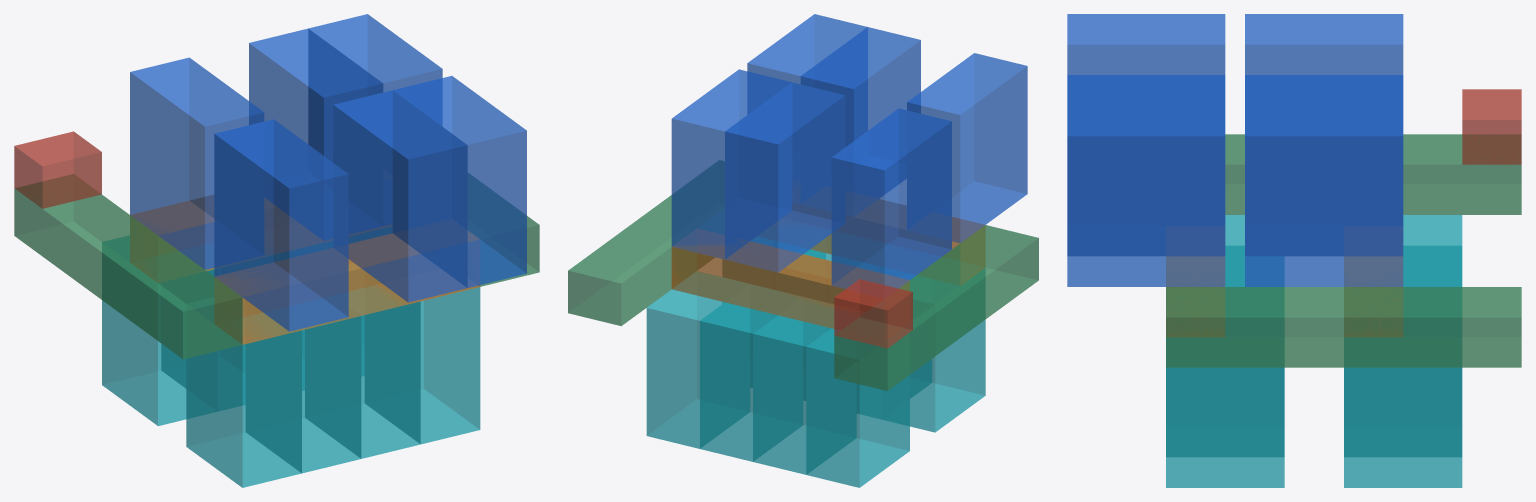
Rendered from slab_08.obj.
3 views of the same model, side by side, from view 1: azimuth 30°, elevation 25°; view 2: azimuth 150°, elevation 25°; view 3: azimuth 270°, elevation 25° (orthographic). The views are drawn at different scales.
Parts seen in each view (by area): view 1: K_1_0, K_0_0, K_1_2, K_1_3, K_0_2, stair_W, F_1_0, F_1_2, F_1_1, F_1_3, F_0_0, corridor_1 (+5 smaller); view 2: K_0_2, K_0_3, K_0_0, K_1_0, K_1_2, stair_W, F_0_3, F_0_2, F_0_1, F_0_0, stair_E, corridor_0 (+7 smaller); view 3: K_0_3, K_1_3, stair_E, K_1_2, K_0_2, F_1_3, F_0_3, K_0_0, K_1_0, stair_W, F_0_2, F_1_2 (+7 smaller).
Boxes of the visible parts, x1,y1,x2,y2 form: K_1_0: [214, 119, 348, 331]; K_0_0: [130, 57, 264, 269]; K_1_2: [333, 90, 467, 302]; K_1_3: [393, 76, 526, 287]; K_0_2: [249, 28, 383, 239]; stair_W: [14, 174, 242, 359]; F_1_0: [186, 297, 301, 487]; F_1_2: [305, 263, 420, 458]; F_1_1: [246, 307, 361, 473]; F_1_3: [365, 286, 480, 444]; F_0_0: [102, 236, 216, 426]; corridor_1: [214, 231, 480, 344]; K_0_2: [725, 82, 845, 272]; K_0_3: [671, 69, 791, 259]; K_0_0: [831, 108, 951, 294]; K_1_0: [907, 53, 1027, 242]; K_1_2: [800, 27, 920, 203]; stair_W: [834, 225, 1038, 390]; F_0_3: [646, 271, 749, 448]; F_0_2: [700, 284, 802, 461]; F_0_1: [753, 297, 856, 474]; F_0_0: [806, 327, 909, 487]; stair_E: [568, 160, 724, 326]; corridor_0: [671, 229, 909, 328]; K_0_3: [1245, 105, 1403, 286]; K_1_3: [1067, 105, 1225, 286]; stair_E: [1166, 287, 1521, 367]; K_1_2: [1067, 75, 1225, 255]; K_0_2: [1245, 75, 1403, 255]; F_1_3: [1166, 307, 1284, 487]; F_0_3: [1344, 307, 1462, 487]; K_0_0: [1245, 14, 1403, 104]; K_1_0: [1067, 14, 1225, 104]; stair_W: [1225, 134, 1521, 214]; F_0_2: [1344, 276, 1462, 456]; F_1_2: [1166, 276, 1284, 456].
Size of the model in its own units: 21.96 by 19.64 by 23.
